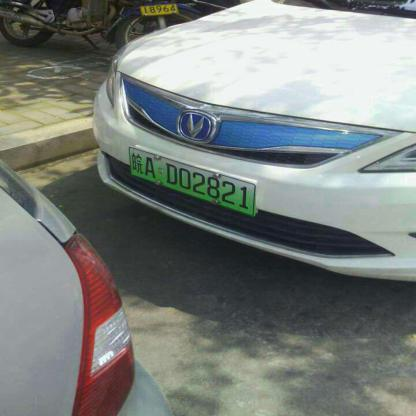lp: (128, 147, 254, 214)
